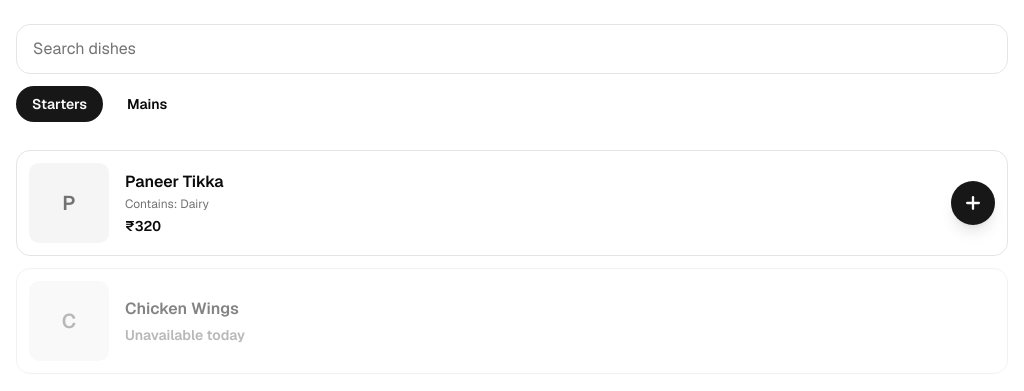
Scenario: MenuView › searches across every category regardless of the active tab
Expected: the element with test id "qr-menu" is shown, left=0, top=0, right=1023, bottom=134
In the field with test id "qr-menu-search": (512, 49) left=16, top=24, right=1008, bottom=74, type "butter"
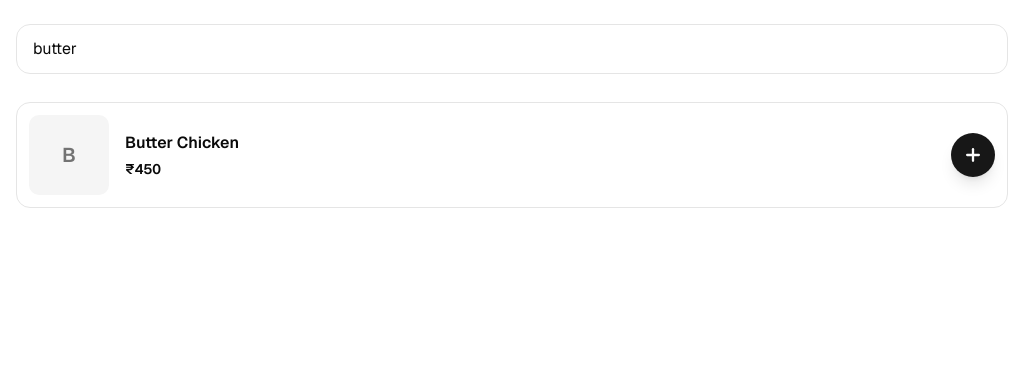
Result: the button with test id "qr-menu-item-i3" is shown at left=17, top=103, right=1007, bottom=207
Result: the button with test id "qr-menu-item-i1" is gone
